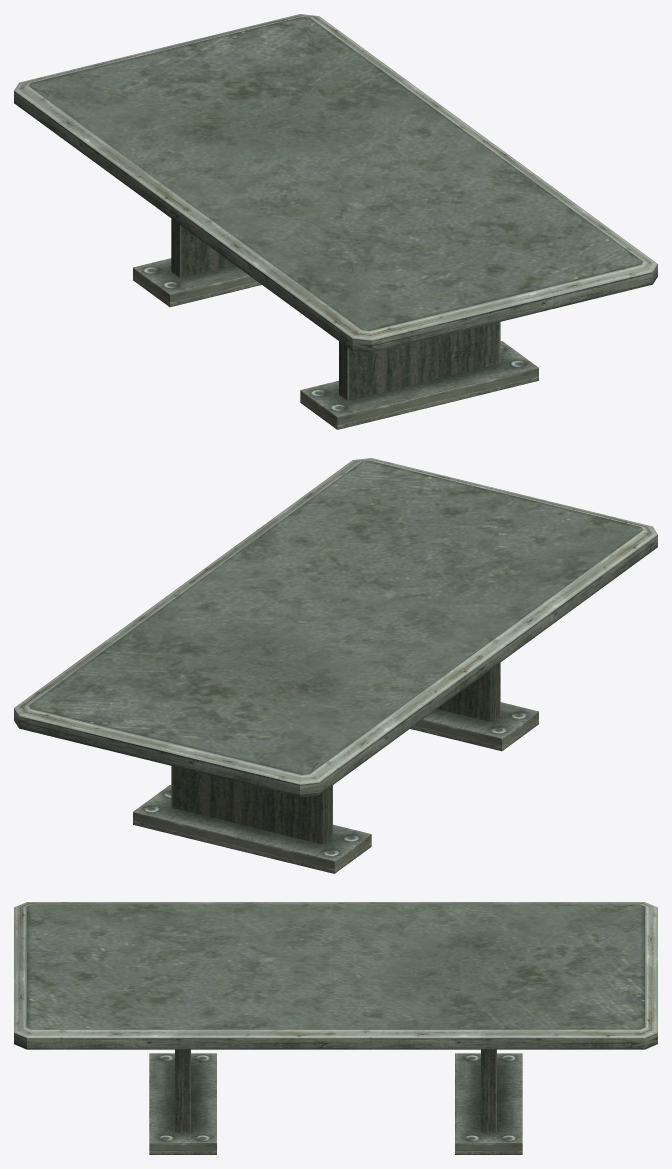
The model's file is c_table.fbx.
3 renders of one model, top to bottom at view 1: azimuth 30°, elevation 25°; view 2: azimuth 150°, elevation 25°; view 3: azimuth 270°, elevation 25°, orthographic. The views are drawn at different scales.
Parts seen in each view (by area): view 1: mesh_0; view 2: mesh_0; view 3: mesh_0.
Part boxes in pixels (bbox=[...]): mesh_0: bbox=[14, 14, 657, 429]; mesh_0: bbox=[14, 458, 657, 873]; mesh_0: bbox=[14, 902, 657, 1154].
Bounding box in the file's own units: 175 × 85.75 × 350.
1 material, 1 textured.
